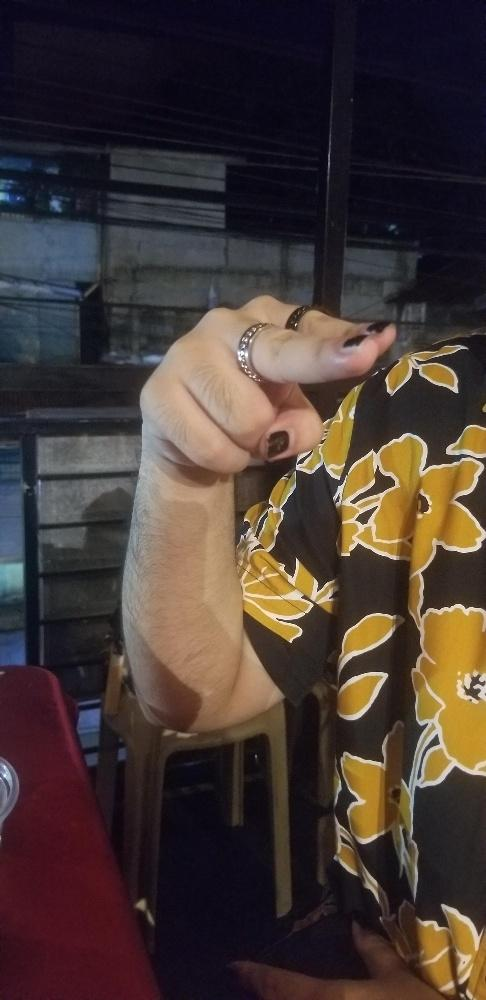n: (136, 286, 398, 475)
